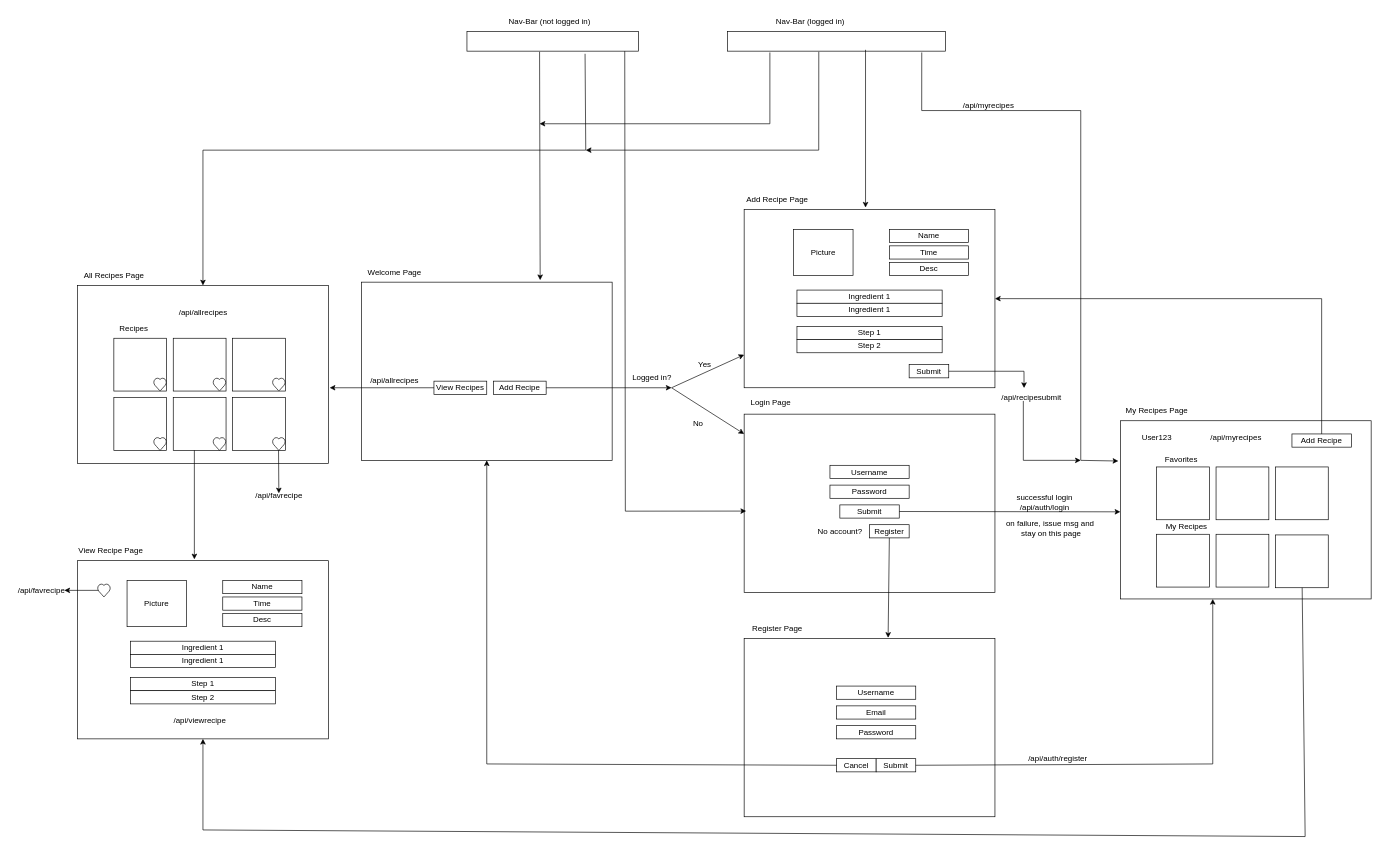
The diagram is 1383 pixels wide and 853 high, and some of its shapes have lost their labels. The shapes that lost their labels are listed below. From the top down, each one's box as (x1, y1, x2, y2) in pixels, then its label:
(466, 31, 639, 51): Home All Recipes Login
(727, 31, 945, 51): Home All Recipes Add Recipe My Recipes
